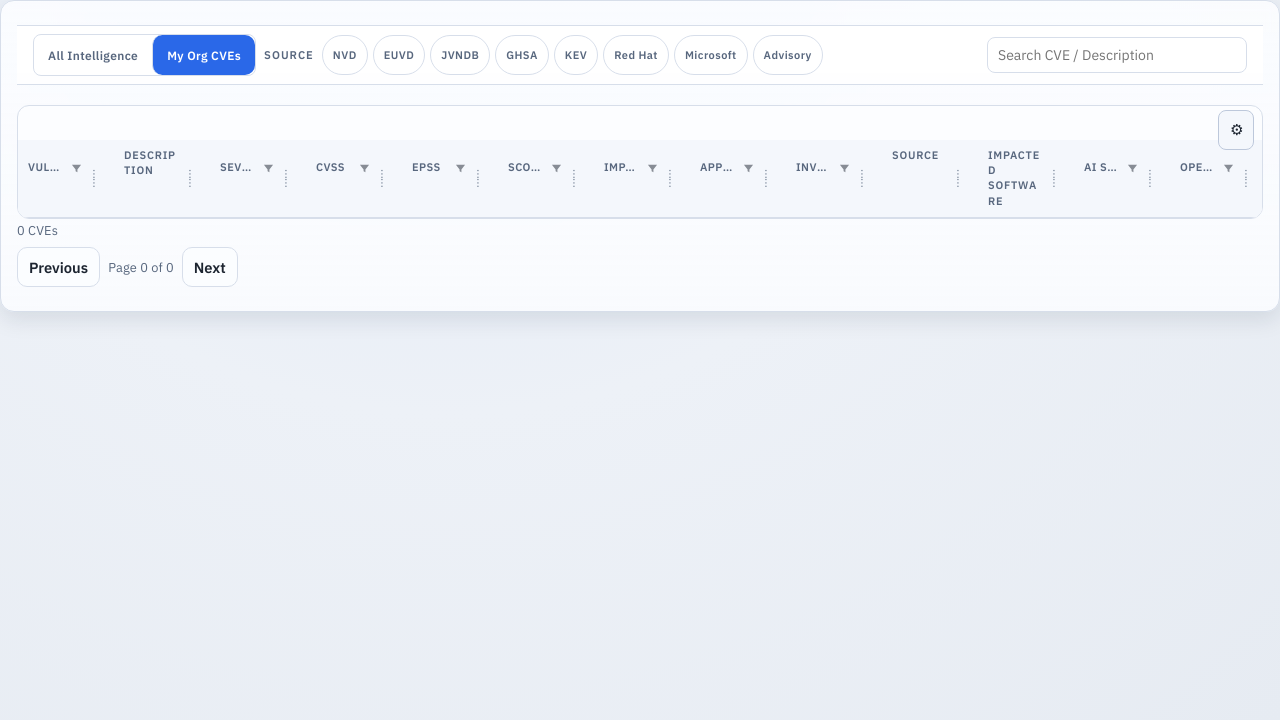
VulnRepoVulnerabilitiesPage › shows readable filter properties and labels in the column filter popover
The width and height of the screenshot is (1280, 720).
Click the button titled "Filter Severity": click(268, 168) top-left (261, 148), bottom-right (276, 188)
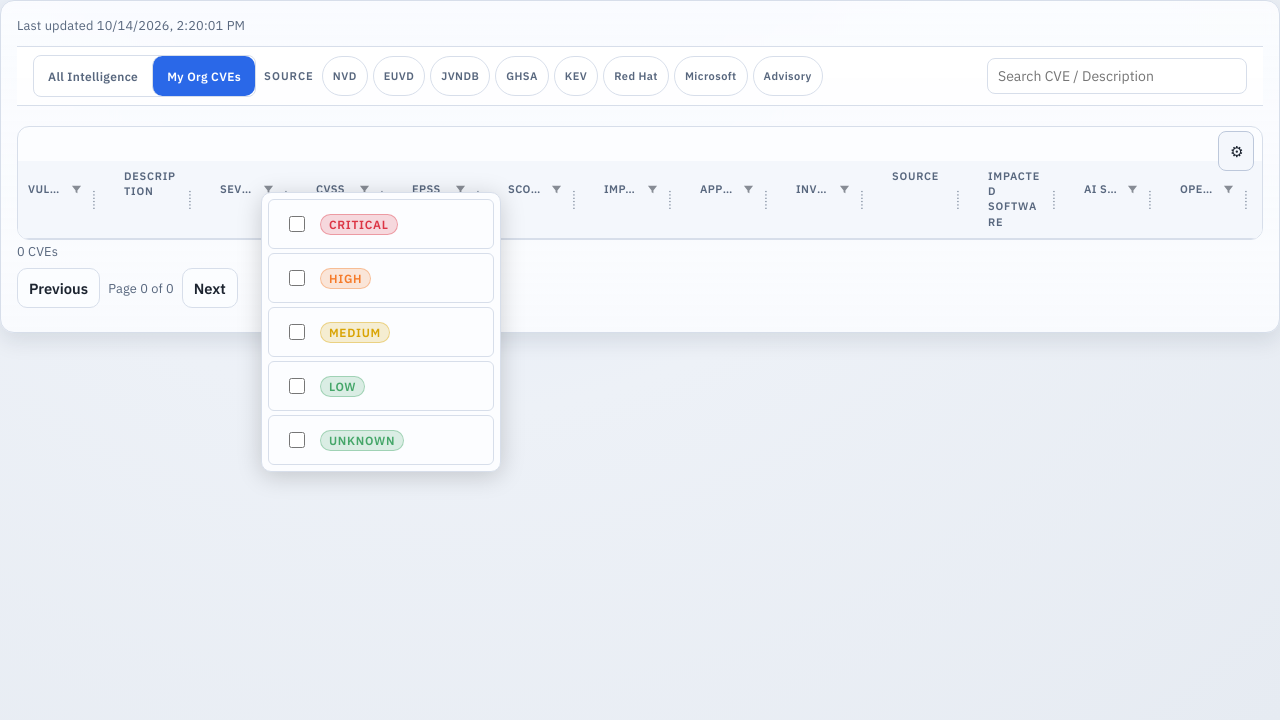
Result: the dialog named "Column filter options" is shown at top-left (261, 192), bottom-right (501, 472)
Result: the text "Critical" is shown at top-left (320, 214), bottom-right (398, 234)
Result: the text "High" is shown at top-left (320, 268), bottom-right (371, 288)
